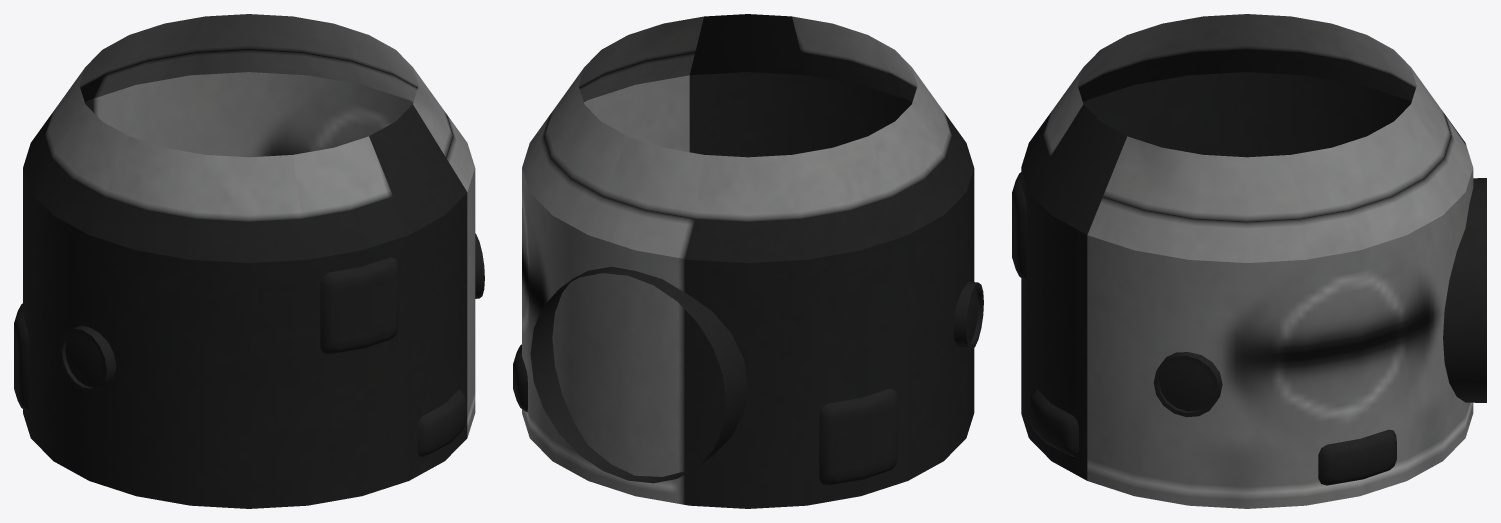
File: vega_crew_s1_2.obj
The picture shows the model from 3 angles, left to right: view 1: azimuth 30°, elevation 25°; view 2: azimuth 150°, elevation 25°; view 3: azimuth 270°, elevation 25°; orthographic projection.
Visible parts, largest first — view 1: 1, w1; view 2: 1; view 3: 1, w1.
Boxes of the visible parts, bbox=[...] form: 1: bbox=[14, 14, 484, 508]; w1: bbox=[65, 333, 103, 387]; 1: bbox=[513, 14, 983, 508]; 1: bbox=[1012, 14, 1486, 508]; w1: bbox=[1159, 360, 1214, 411].
Bounding box in the file's own units: 1.3 × 1 × 1.31.
